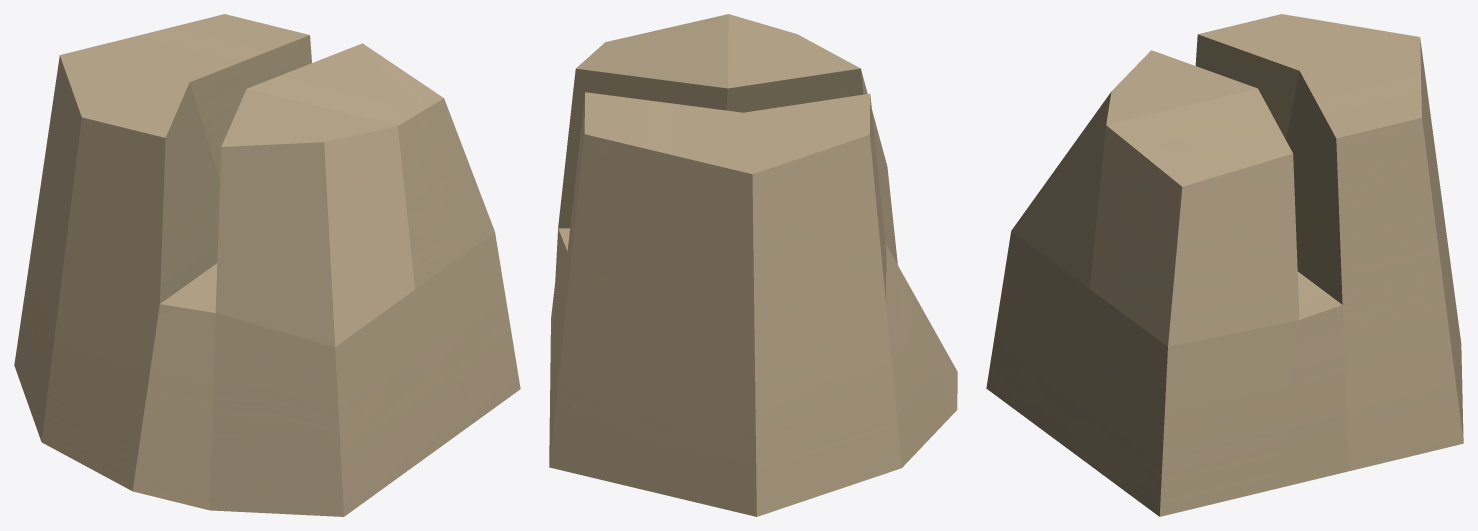
Rendered from Rock+4.fbx.
3 renders of one model, left to right at view 1: azimuth 30°, elevation 25°; view 2: azimuth 150°, elevation 25°; view 3: azimuth 270°, elevation 25°, orthographic.
Visible parts, largest first — view 1: Rock 4; view 2: Rock 4; view 3: Rock 4.
Boxes of the visible parts, left/top/right/bottom form: Rock 4: left=14, top=14, right=520, bottom=516; Rock 4: left=549, top=14, right=957, bottom=516; Rock 4: left=986, top=14, right=1463, bottom=516.
Size of the model in its own units: 86.13 by 63.5 by 86.13.
